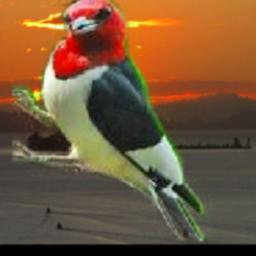Woodpecker: (12, 0, 212, 242)
